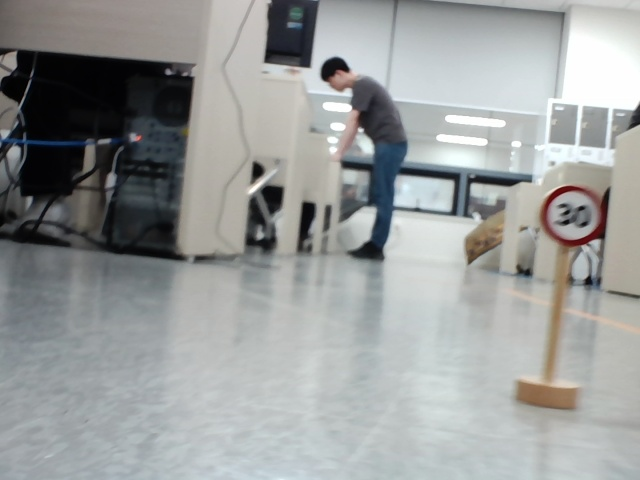limit_sign: (542, 185, 603, 243)
